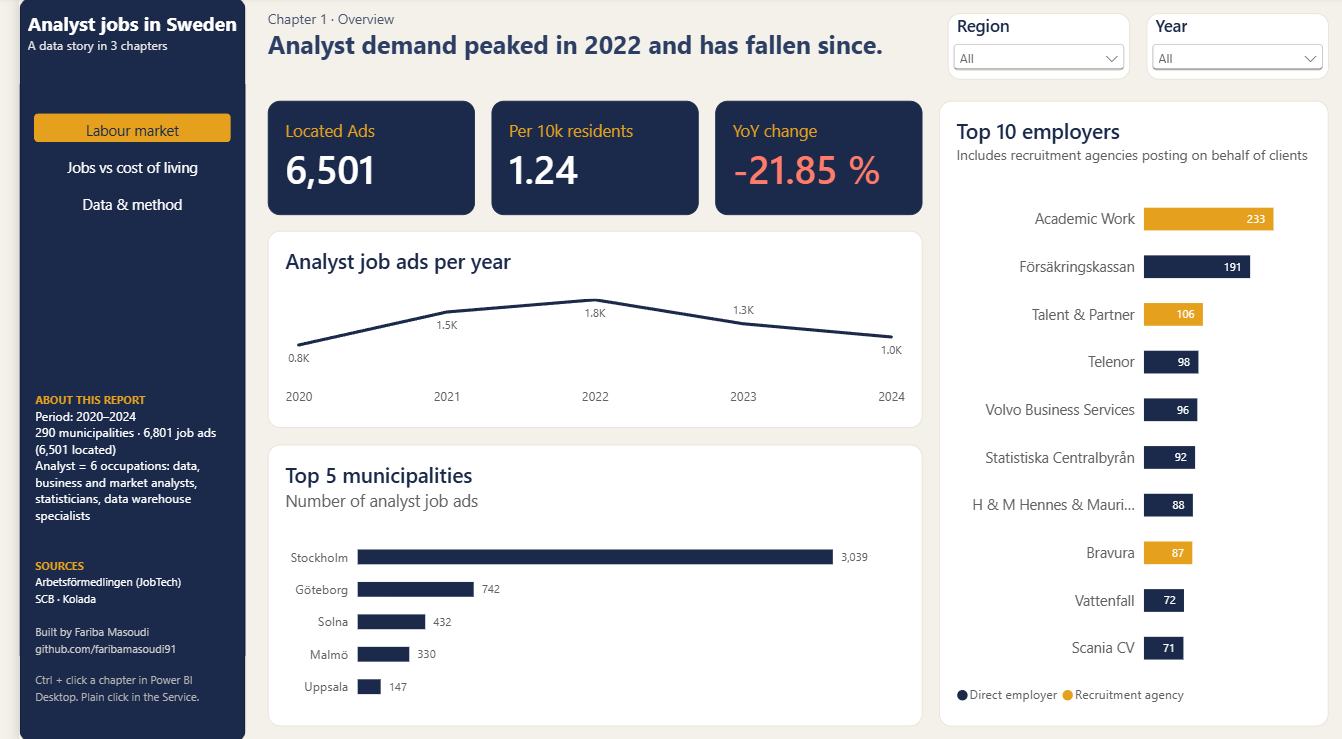

This screenshot's page, from the dashboard's own definition file:
{"tool":"powerbi","page":{"name":"Labour market","canvas":[1280,720],"ordinal":0},"visuals":[{"type":"shape","box":[0,0,219.6,720.2],"z":0},{"type":"cardVisual","fields":{"Data":["municipality_panel_2020_2024.Total Ads"]},"box":[240,100,200,110],"z":1000},{"type":"cardVisual","fields":{"Data":["municipality_panel_2020_2024.Ads per 10k"]},"box":[456,100,200,110],"z":2000},{"type":"lineChart","title":"Analyst job ads per year","fields":{"Category":["dim_year.year"],"Y":["municipality_panel_2020_2024.Total Ads"]},"box":[240,226,632,190],"z":3000},{"type":"barChart","title":"Top 5 municipalities","fields":{"Category":["dim_municipality.municipality_name"],"Y":["municipality_panel_2020_2024.Total Ads"]},"box":[240.1,432,632.2,272],"z":4000},{"type":"slicer","fields":{"Values":["dim_municipality.region_name"]},"box":[896,16,176,64],"z":5000},{"type":"slicer","fields":{"Values":["dim_year.year"]},"box":[1088,16,176,64],"z":6000},{"type":"barChart","title":"Top 10 employers","fields":{"Category":["analyst_ads_final.Employer Short"],"Series":["analyst_ads_final.Employer Type"],"Y":["analyst_ads_final.Ads (located)"]},"box":[888,100,376,604],"z":7000},{"type":"cardVisual","fields":{"Data":["municipality_panel_2020_2024.YoY Change %"]},"box":[672,100,200,110],"z":8000},{"type":"textbox","box":[8.4,13.3,211.1,76],"z":9000},{"type":"pageNavigator","box":[14.5,112.2,190,100],"z":10000},{"type":"textbox","box":[240,12,640,76],"z":11000},{"type":"textbox","box":[16,650,190,50],"z":12000},{"type":"textbox","box":[16,380,190,260],"z":13000}]}

Visuals, with their boxes in screenshot pixels (x1, y1, x2, y2), scaled from the page's 1280x720 canvas onto the 1342x739 screenshot:
shape: [0, 0, 230, 738]
cardVisual - municipality_panel_2020_2024.Total Ads: [252, 103, 461, 216]
cardVisual - municipality_panel_2020_2024.Ads per 10k: [478, 103, 688, 216]
"Analyst job ads per year" lineChart: [252, 232, 914, 427]
"Top 5 municipalities" barChart: [252, 443, 915, 723]
slicer - dim_municipality.region_name: [939, 16, 1124, 82]
slicer - dim_year.year: [1141, 16, 1325, 82]
"Top 10 employers" barChart: [931, 103, 1325, 723]
cardVisual - municipality_panel_2020_2024.YoY Change %: [705, 103, 914, 216]
textbox: [9, 14, 230, 92]
pageNavigator: [15, 115, 214, 218]
textbox: [252, 12, 923, 90]
textbox: [17, 667, 216, 718]
textbox: [17, 390, 216, 657]
